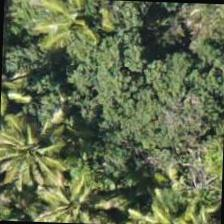Kelapa_Sawit: (0, 106, 78, 200), (27, 166, 120, 223)
